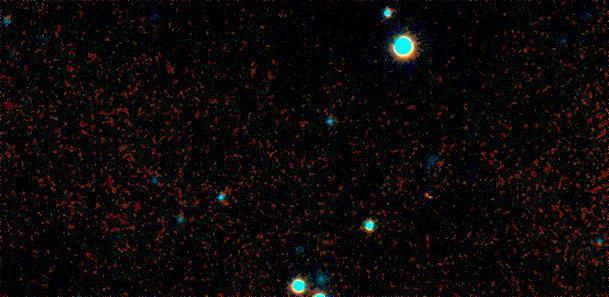star: (413, 181, 443, 211)
